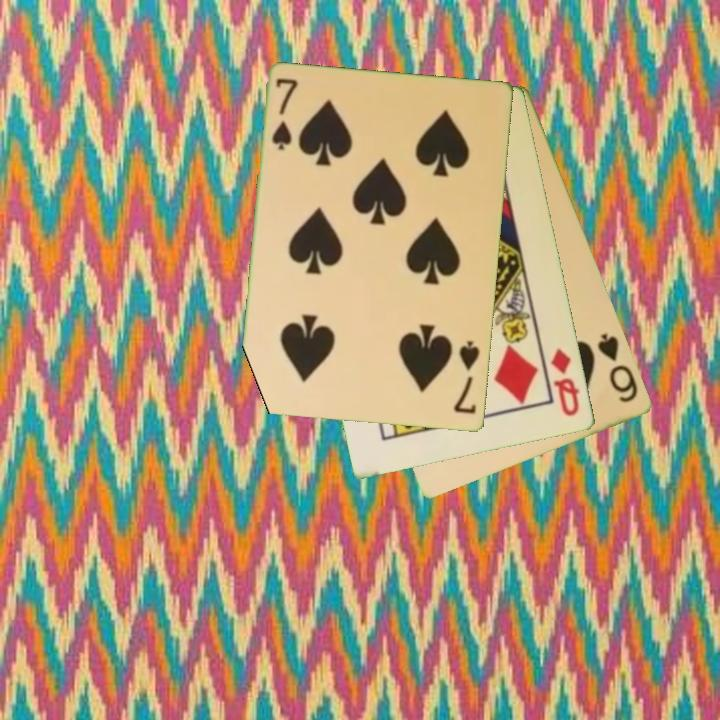6s: (594, 330, 642, 406)
7s: (451, 338, 483, 418), (269, 75, 301, 153)
Qd: (547, 345, 583, 420)
